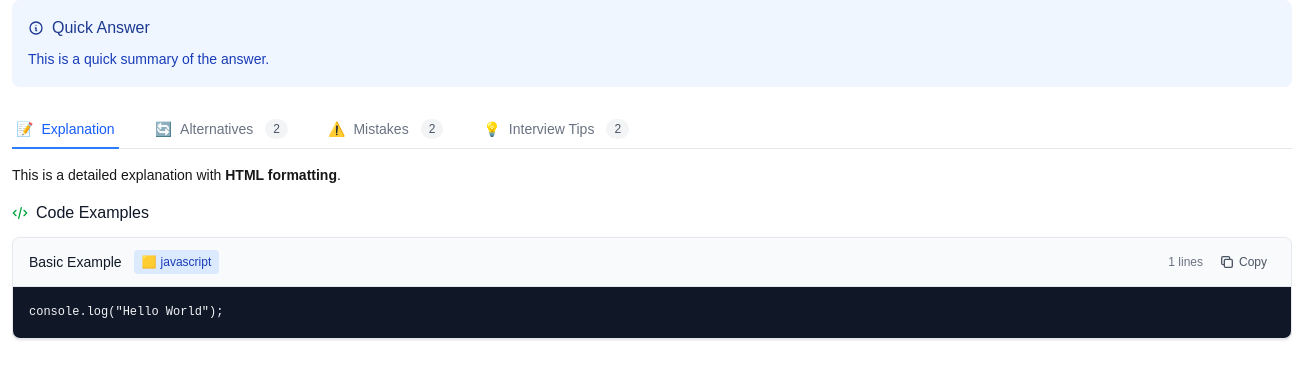
it: DetailedAnswer › switches to interview tips tab when clicked
What coordinates should you click on to do the following:
click the button "💡 Interview Tips 2"
I would click on:
 (556, 130)
Its box is [479, 111, 633, 149].
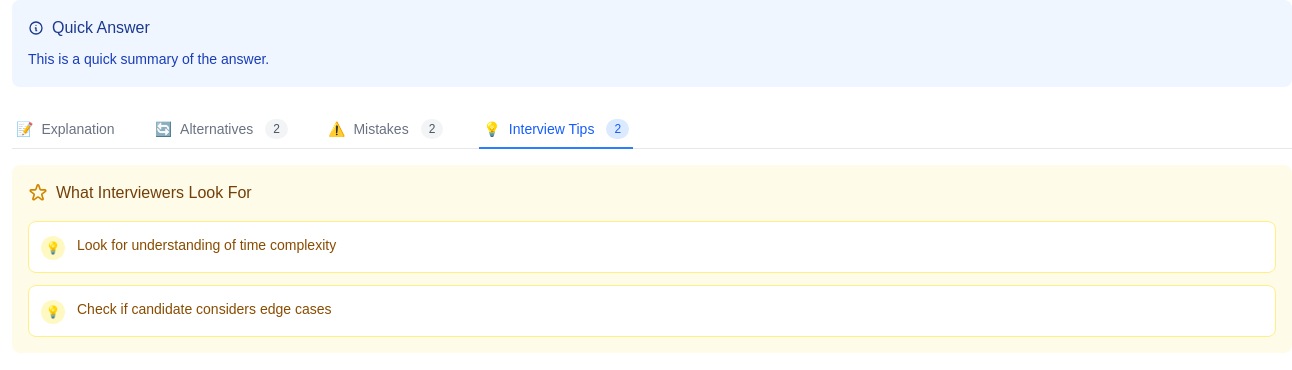
Check: the heading "What Interviewers Look For" is shown, box [56, 181, 252, 205]
Check: the text "Look for understanding of time complexity" is shown, box [77, 237, 336, 253]
Check: the text "Check if candidate considers edge cases" is shown, box [77, 301, 332, 317]
